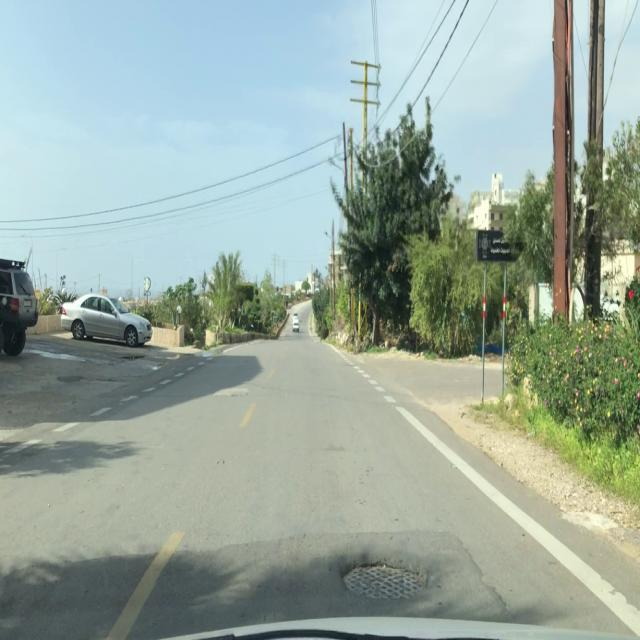Pothole: (340, 556, 434, 604)
